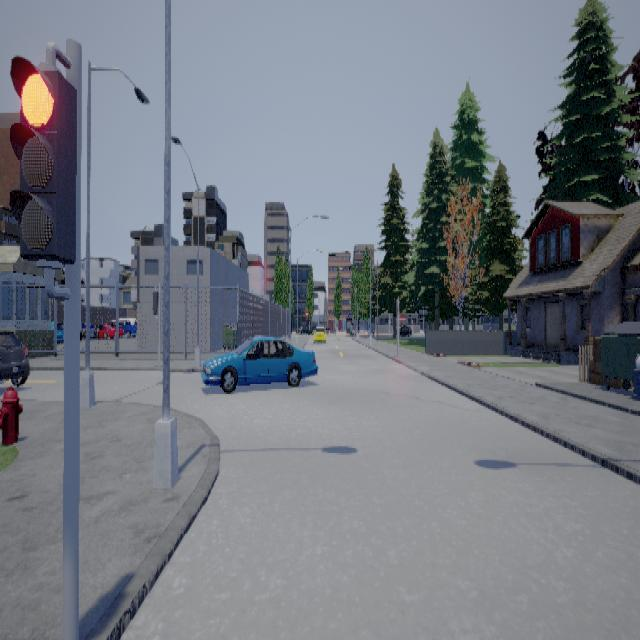red_light: (10, 41, 78, 298)
vehicle: (202, 335, 320, 393), (1, 330, 31, 386)
